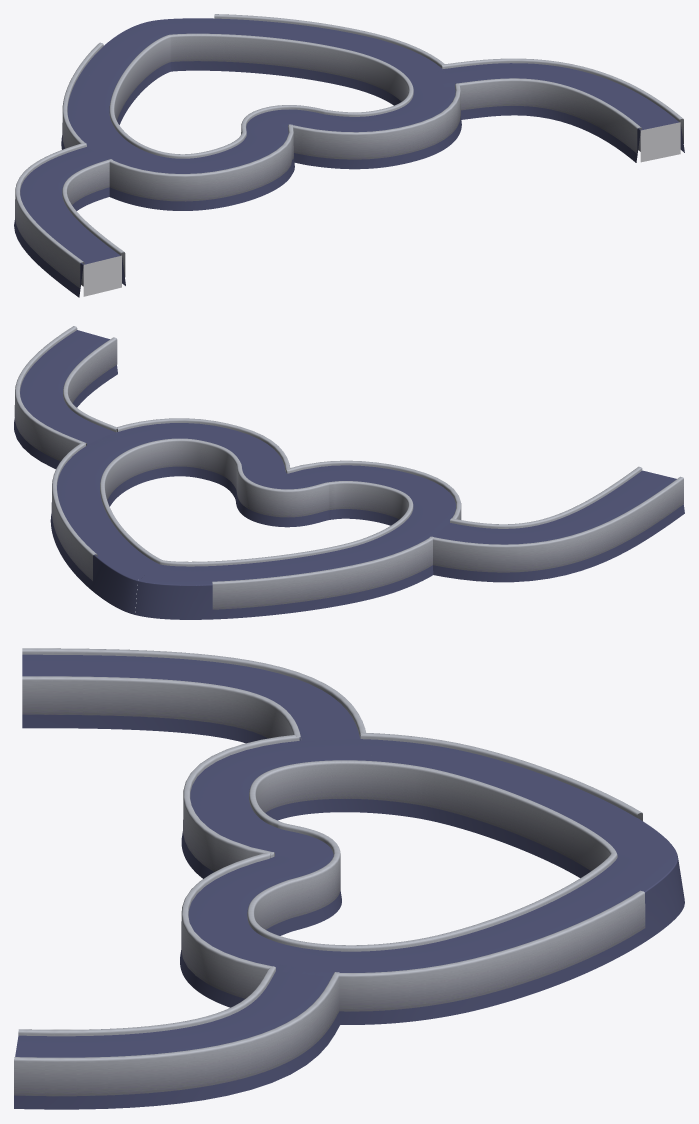
The model's file is map2.fbx.
The picture shows the model from 3 angles, top to bottom: view 1: azimuth 30°, elevation 25°; view 2: azimuth 150°, elevation 25°; view 3: azimuth 270°, elevation 25°; orthographic projection. The views are drawn at different scales.
Parts seen in each view (by area): view 1: Circle__1_, Path, Path__1_; view 2: Circle__1_, Path__1_, Path; view 3: Circle__1_, Path, Path__1_.
Part boxes in pixels (x1,y1,x2,y2): Circle__1_: (61,14,461,210); Path: (436,58,684,162); Path__1_: (14,142,125,297); Circle__1_: (50,418,461,619); Path__1_: (429,466,684,582); Path: (14,326,123,468); Circle__1_: (180,732,684,1024); Path: (14,964,340,1109); Path__1_: (22,648,365,743).
Bounding box in the file's own units: 4151 × 230 × 2848.
